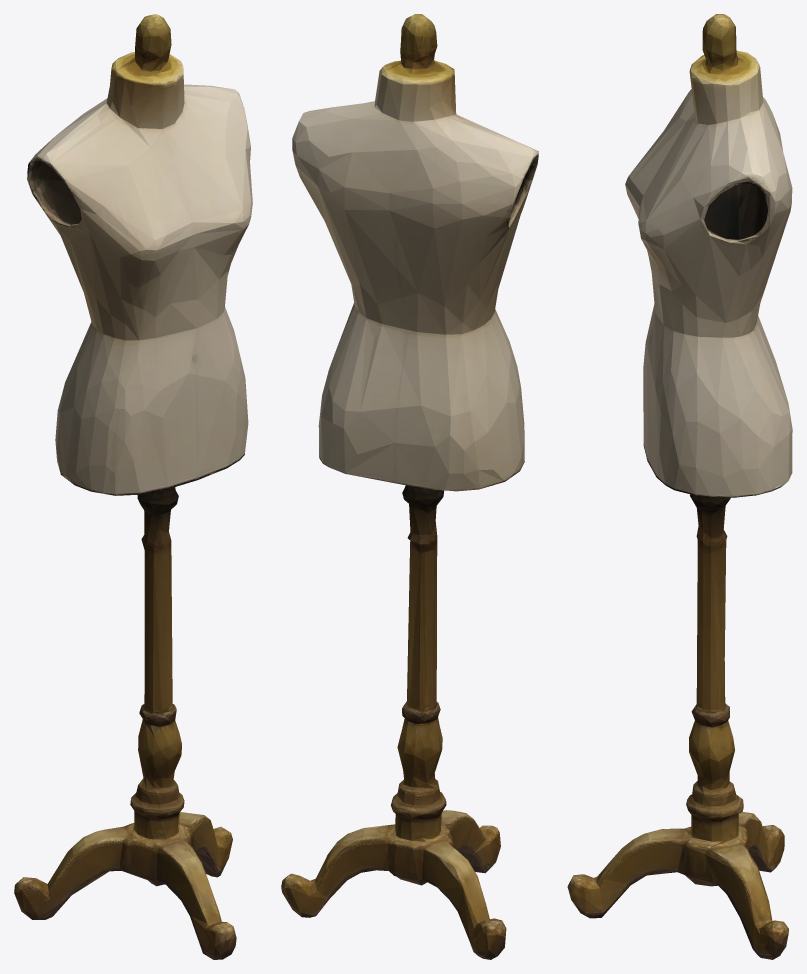
3 renders of one model, left to right at view 1: azimuth 30°, elevation 25°; view 2: azimuth 150°, elevation 25°; view 3: azimuth 270°, elevation 25°, orthographic.
Visible parts, largest first — view 1: geometry_0; view 2: geometry_0; view 3: geometry_0.
Boxes of the visible parts, left/top/right/bottom form: geometry_0: left=14, top=14, right=252, bottom=959; geometry_0: left=281, top=14, right=538, bottom=959; geometry_0: left=567, top=14, right=792, bottom=959.
Size of the model in its own units: 0.2588 by 0.999 by 0.2263.
1 material, 1 textured.
